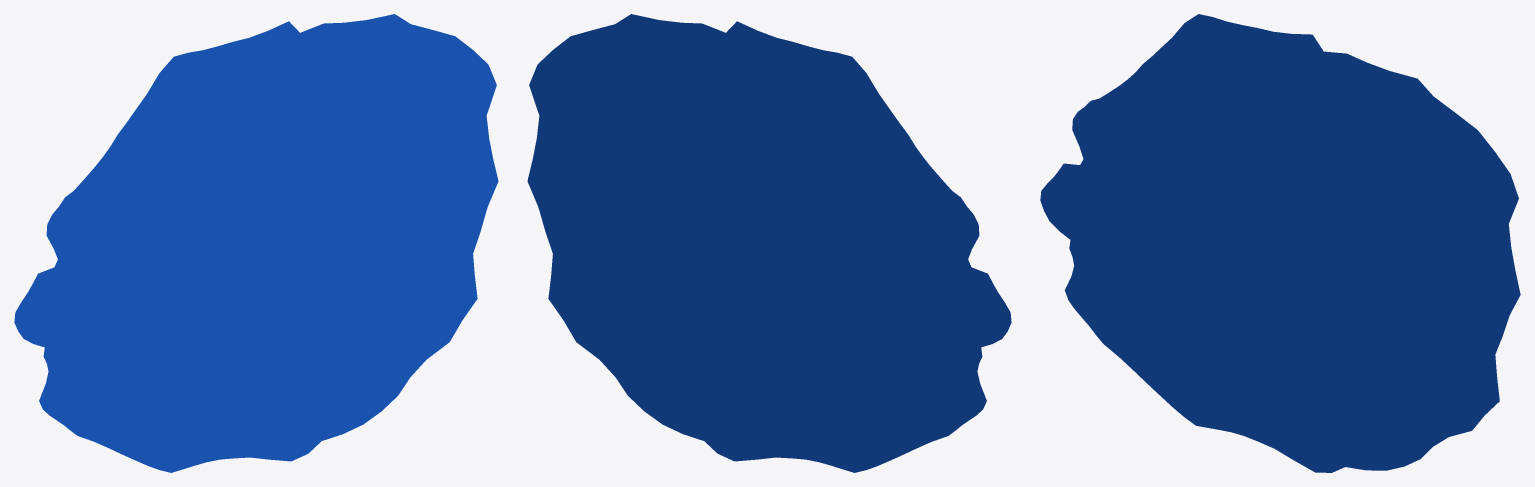
The model's file is portal_azul.obj.
3 views of the same model, side by side, from view 1: azimuth 30°, elevation 25°; view 2: azimuth 150°, elevation 25°; view 3: azimuth 330°, elevation 25° (orthographic).
Visible parts, largest first — view 1: ventana_portal; view 2: ventana_portal; view 3: ventana_portal.
Part boxes in pixels (x1,y1,x2,y2): ventana_portal: [14, 14, 498, 472]; ventana_portal: [527, 14, 1011, 472]; ventana_portal: [1040, 14, 1520, 472].
Size of the model in its own units: 0.8307 by 0.7228 by 0.
